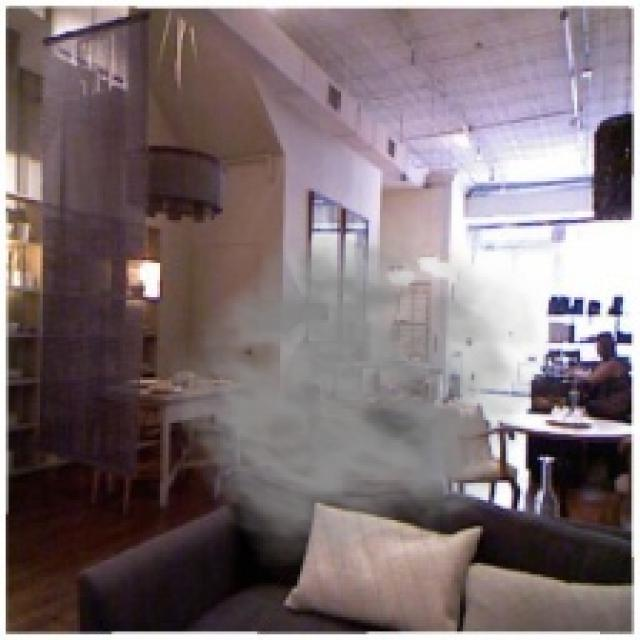smoke: (166, 200, 560, 566)
